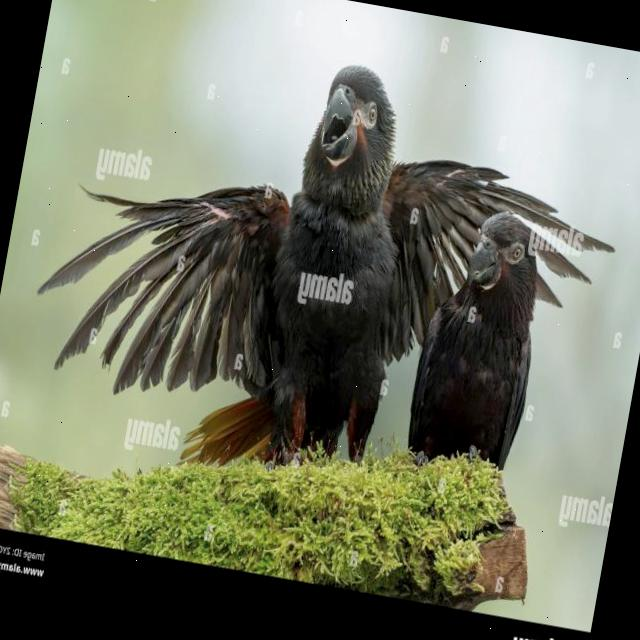Nuri Hitam: (9, 0, 463, 501), (389, 201, 577, 500)
